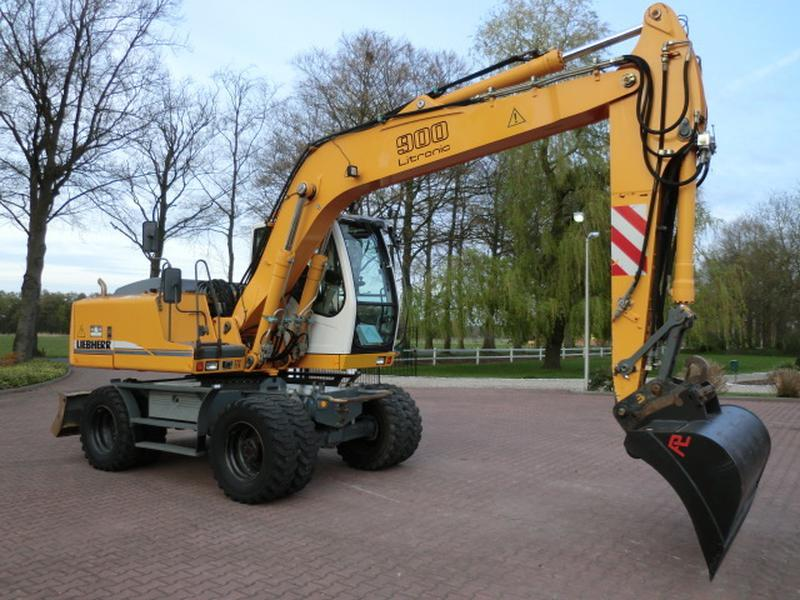shovel: (52, 1, 779, 591)
